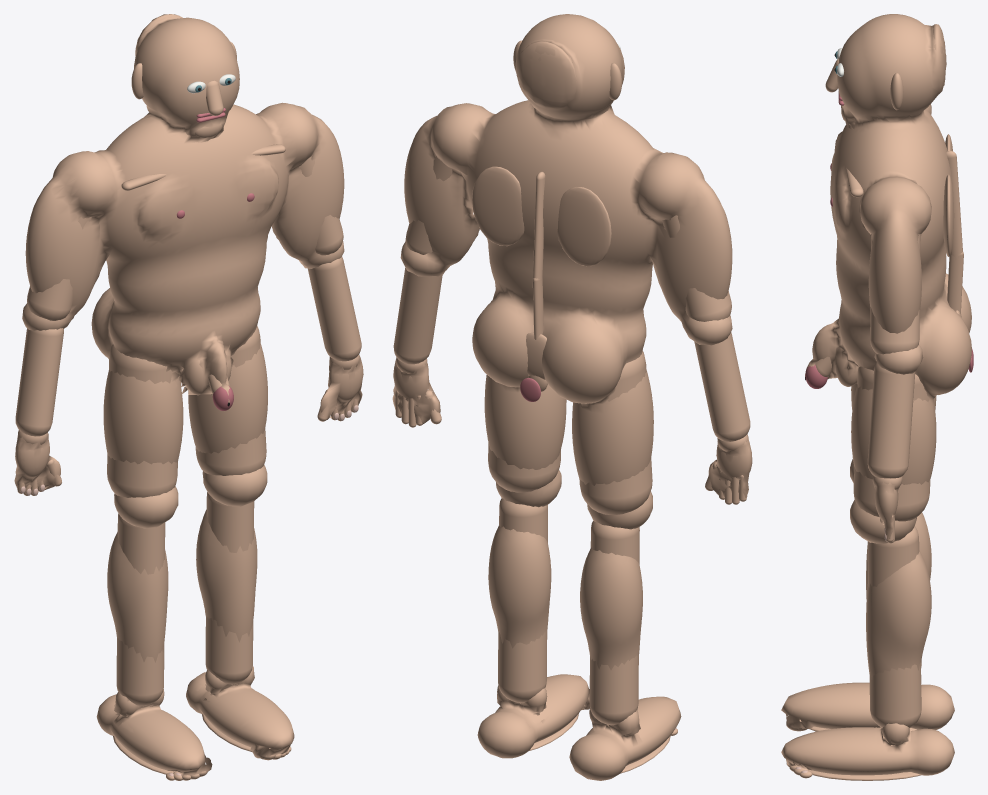
Rendered from body-jugendlicher-maennlich-v2.glb.
The picture shows the model from 3 angles, left to right: view 1: azimuth 30°, elevation 25°; view 2: azimuth 150°, elevation 25°; view 3: azimuth 270°, elevation 25°; orthographic projection. The views are drawn at different scales.
Parts seen in each view (by area): view 1: zone__visual-surface-body-jugendlicher-maennlich, zone__surface-lower-leg-right, zone__surface-lower-leg-left, zone__surface-forearm-left, zone__surface-thigh-left, zone__surface-forearm-right, zone__surface-thigh-right, zone__surface-upper-arm-left, zone__surface-upper-arm-right; view 2: zone__visual-surface-body-jugendlicher-maennlich, zone__surface-lower-leg-left, zone__surface-lower-leg-right, zone__surface-forearm-left, zone__surface-scapula-left, zone__surface-forearm-right, zone__surface-scapula-right, zone__surface-thigh-left, zone__surface-thigh-right, zone__surface-upper-arm-left, zone__surface-thoracic-spine, zone__surface-upper-arm-right (+2 smaller); view 3: zone__visual-surface-body-jugendlicher-maennlich, zone__surface-lower-leg-right, zone__surface-forearm-right, zone__surface-thigh-right, zone__surface-upper-arm-right, zone__surface-thoracic-spine, zone__surface-lumbar-spine, zone__surface-scapula-right, zone__surface-sole-right, zone__surface-ear-right, zone__surface-glans.
Boxes of the visible parts, box(x1,y1,x2,y2) form: zone__visual-surface-body-jugendlicher-maennlich: box(14, 14, 363, 775); zone__surface-lower-leg-right: box(205, 492, 254, 684); zone__surface-lower-leg-left: box(116, 513, 165, 706); zone__surface-forearm-left: box(15, 328, 63, 436); zone__surface-thigh-left: box(107, 344, 177, 497); zone__surface-forearm-right: box(307, 256, 361, 361); zone__surface-thigh-right: box(195, 325, 266, 475); zone__surface-upper-arm-left: box(27, 217, 91, 320); zone__surface-upper-arm-right: box(299, 155, 343, 255); zone__visual-surface-body-jugendlicher-maennlich: box(392, 14, 752, 780); zone__surface-lower-leg-left: box(589, 521, 639, 725); zone__surface-lower-leg-right: box(498, 498, 547, 702); zone__surface-forearm-left: box(694, 332, 750, 441); zone__surface-scapula-left: box(557, 186, 611, 266); zone__surface-forearm-right: box(393, 268, 442, 364); zone__surface-scapula-right: box(472, 166, 524, 246); zone__surface-thigh-left: box(579, 351, 652, 514); zone__surface-thigh-right: box(488, 443, 560, 492); zone__surface-upper-arm-left: box(662, 215, 731, 321); zone__surface-thoracic-spine: box(533, 171, 545, 284); zone__surface-upper-arm-right: box(405, 156, 452, 254); zone__visual-surface-body-jugendlicher-maennlich: box(781, 14, 971, 775); zone__surface-lower-leg-right: box(867, 526, 921, 727); zone__surface-forearm-right: box(867, 362, 915, 478); zone__surface-thigh-right: box(853, 366, 930, 521); zone__surface-upper-arm-right: box(870, 234, 920, 354); zone__surface-thoracic-spine: box(946, 151, 962, 260); zone__surface-lumbar-spine: box(947, 252, 963, 313); zone__surface-scapula-right: box(943, 174, 954, 256); zone__surface-sole-right: box(808, 769, 921, 780); zone__surface-ear-right: box(890, 73, 903, 110); zone__surface-glans: box(805, 364, 827, 388).
Size of the model in its own units: 0.8438 by 1.66 by 0.3967.
